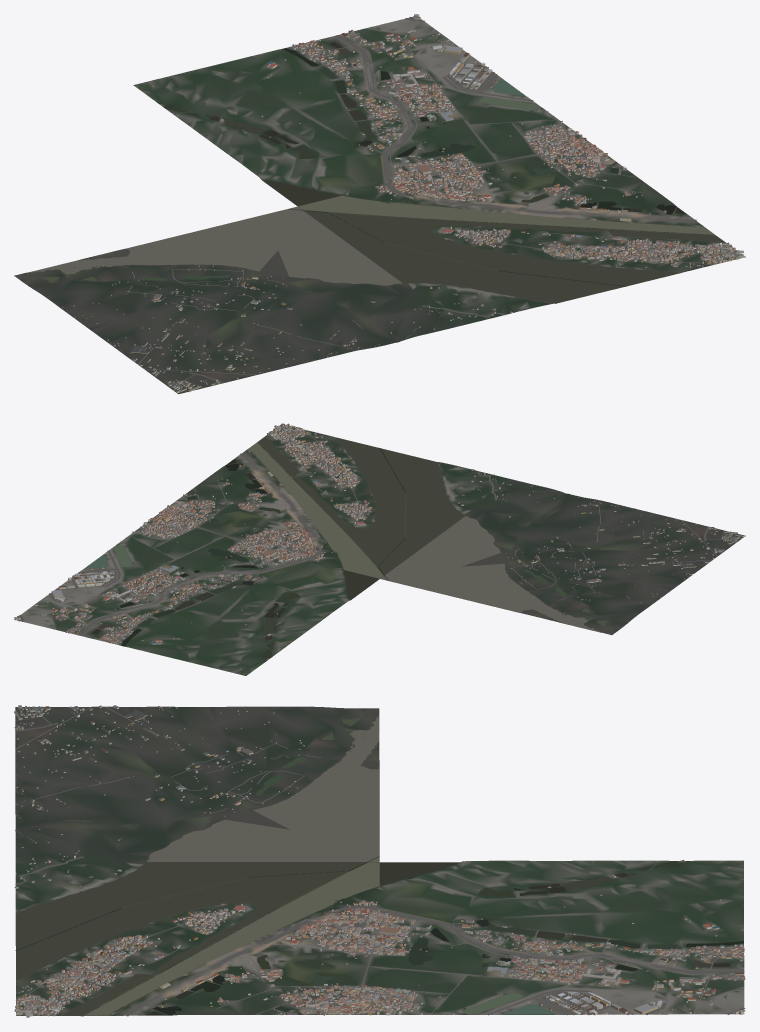
3 renders of one model, top to bottom at view 1: azimuth 30°, elevation 25°; view 2: azimuth 150°, elevation 25°; view 3: azimuth 270°, elevation 25°, orthographic. The views are drawn at different scales.
Parts seen in each view (by area): view 1: ground, water, buildings, roads; view 2: ground, water, buildings, roads; view 3: ground, water, buildings, roads.
Part boxes in pixels (x1=…): ground: x1=14, y1=17, x2=745, y2=394; water: x1=29, y1=42, x2=723, y2=303; buildings: x1=73, y1=14, x2=744, y2=393; roads: x1=128, y1=17, x2=739, y2=387; ground: x1=14, y1=425, x2=745, y2=675; water: x1=84, y1=437, x2=611, y2=661; buildings: x1=14, y1=423, x2=744, y2=669; roads: x1=18, y1=428, x2=724, y2=644; ground: x1=15, y1=706, x2=744, y2=1016; water: x1=15, y1=713, x2=743, y2=1015; buildings: x1=14, y1=705, x2=745, y2=1017; roads: x1=15, y1=706, x2=745, y2=1016.
Size of the model in its own units: 2819 by 21.68 by 2818.
